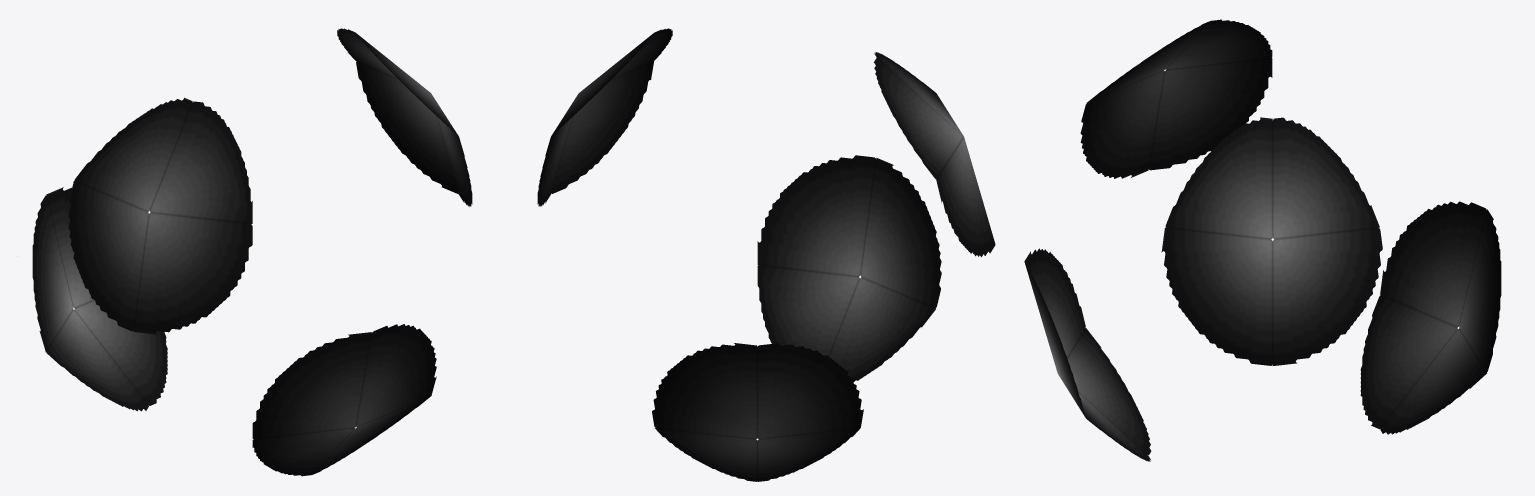
The picture shows the model from 3 angles, left to right: view 1: azimuth 30°, elevation 25°; view 2: azimuth 150°, elevation 25°; view 3: azimuth 270°, elevation 25°; orthographic projection. The views are drawn at different scales.
Parts seen in each view (by area): view 1: T1L7M007_32; view 2: T1L7M007_32; view 3: T1L7M007_32.
Part boxes in pixels (bbox=[...]): T1L7M007_32: bbox=[32, 28, 472, 476]; T1L7M007_32: bbox=[537, 28, 995, 481]; T1L7M007_32: bbox=[1024, 19, 1501, 461].
Bounding box in the file's own units: 0.7998 × 0.6924 × 0.7998.
